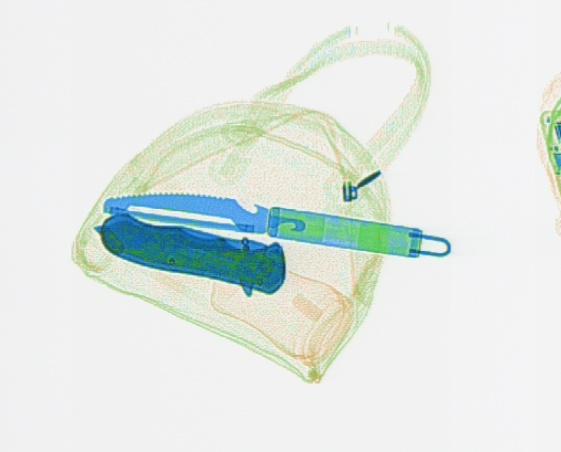knife: (101, 191, 453, 258), (91, 211, 287, 296)
